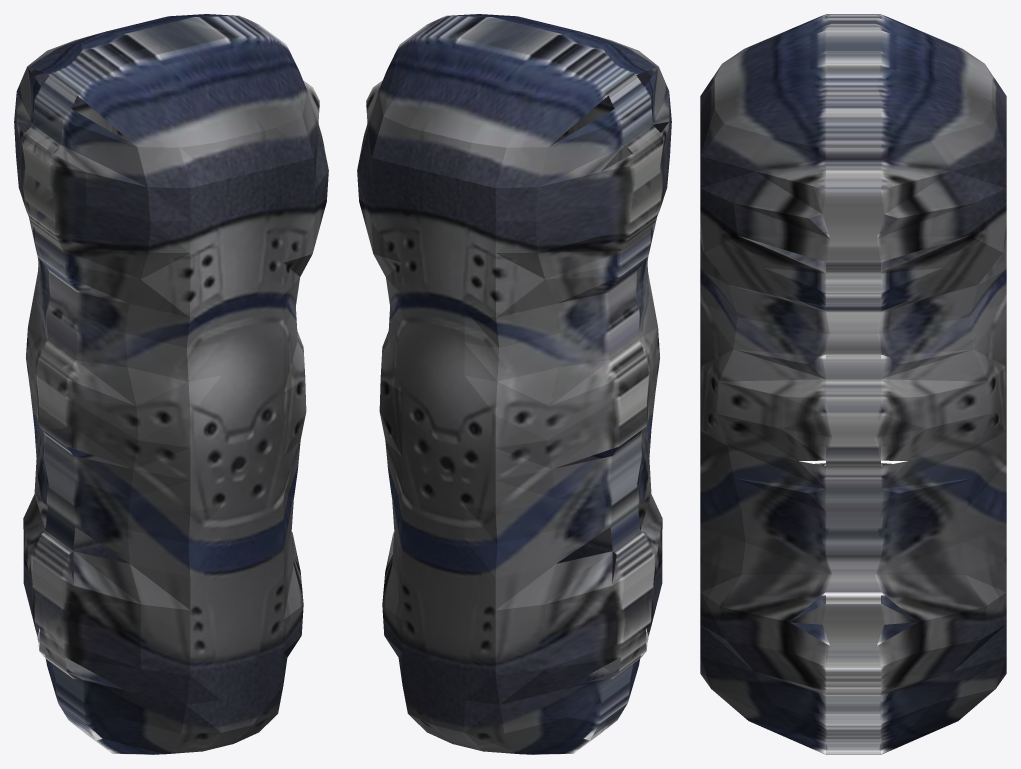
The model's file is cardo-nomad-elbow-protector-165.glb.
3 views of the same model, side by side, from view 1: azimuth 30°, elevation 25°; view 2: azimuth 150°, elevation 25°; view 3: azimuth 270°, elevation 25° (orthographic).
Visible parts, largest first — view 1: world; view 2: world; view 3: world.
Part boxes in pixels (x1=…): world: x1=14, y1=14, x2=328, y2=754; world: x1=357, y1=14, x2=671, y2=754; world: x1=700, y1=14, x2=1006, y2=754.
Size of the model in its own units: 0.3994 by 1 by 0.4.
1 material, 1 textured.
